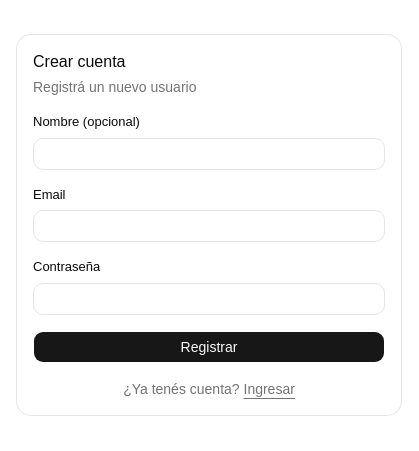
Register page › shows the default error message when server returns no error body
The image size is (419, 451).
In the field labelled "Email": point(209, 226) [33,210,385,242], type "x@x.com"
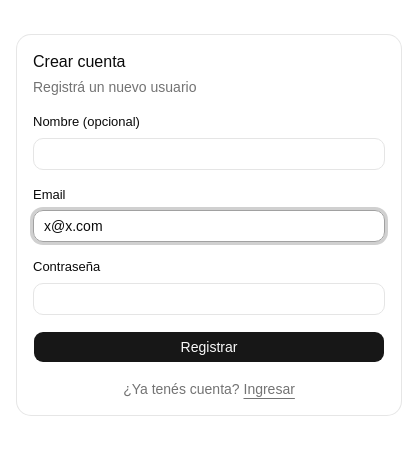
In the password field labelled "Contraseña": point(209, 299) [33,283,385,315], type "ValidPassword1"
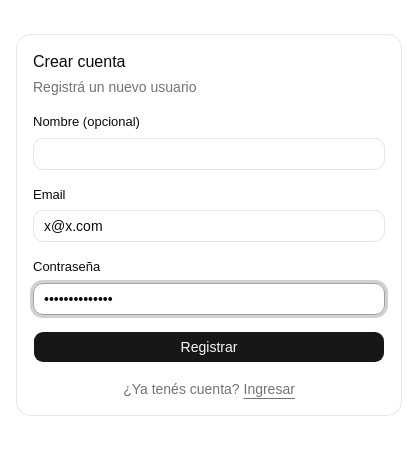
Click the button "Registrar": point(209, 347) [33,331,385,363]
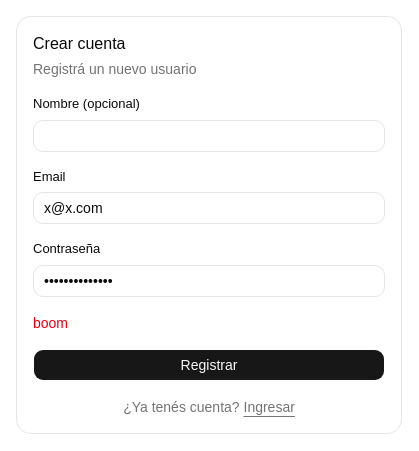
Now the text "boom" is shown, box [33,315,68,331]
